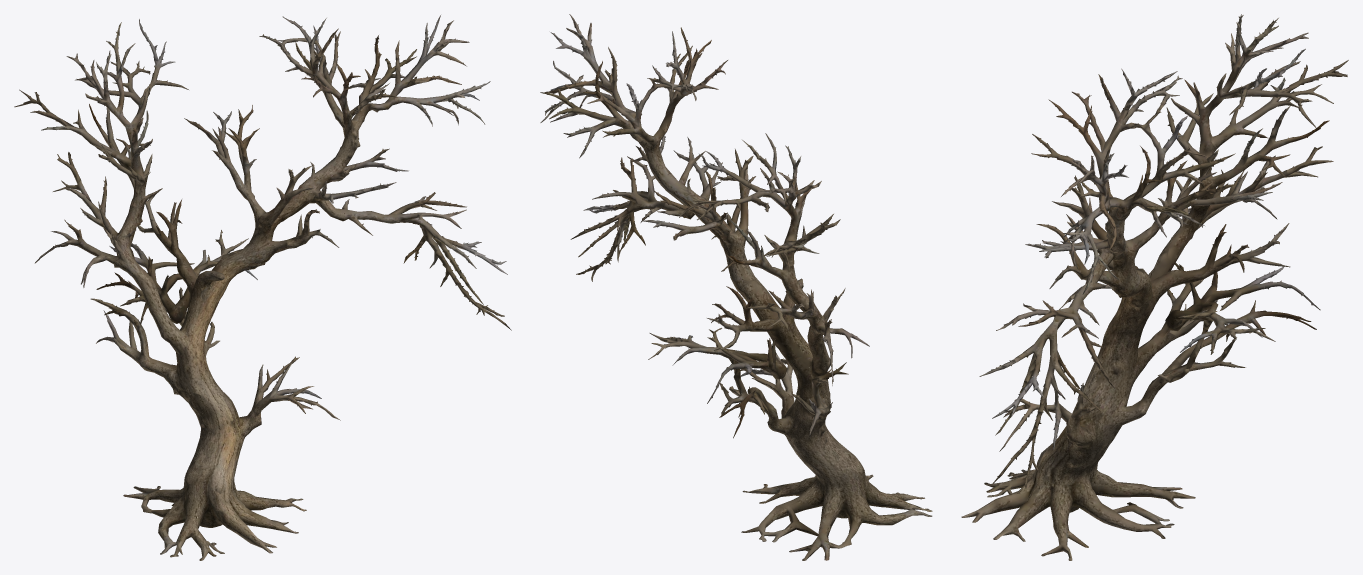
The picture shows the model from 3 angles, left to right: view 1: azimuth 30°, elevation 25°; view 2: azimuth 150°, elevation 25°; view 3: azimuth 270°, elevation 25°; orthographic projection. The views are drawn at different scales.
Visible parts, largest first — view 1: node_0; view 2: node_0; view 3: node_0.
Part boxes in pixels (box(x1,y1,x2,y2)): node_0: box(14, 15, 511, 560); node_0: box(540, 14, 932, 560); node_0: box(961, 14, 1348, 560).
Size of the model in its own units: 0.7484 by 0.8894 by 0.6021.
Materials: 1 (1 with a texture image).
